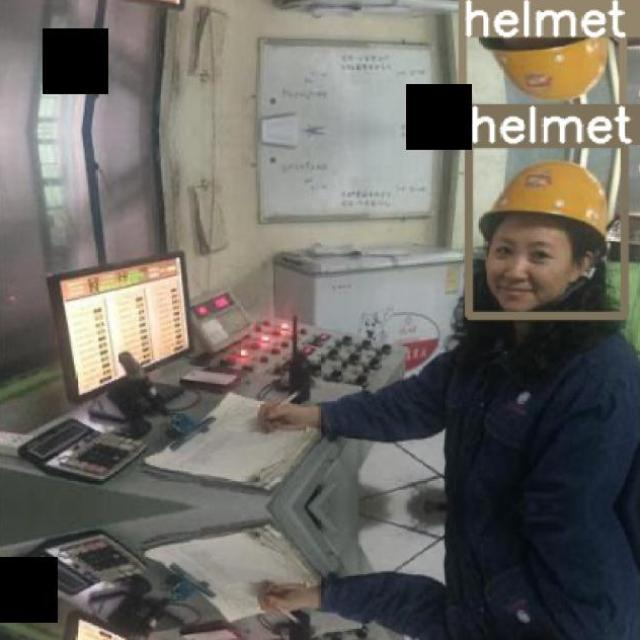helmet: (478, 160, 609, 244)
